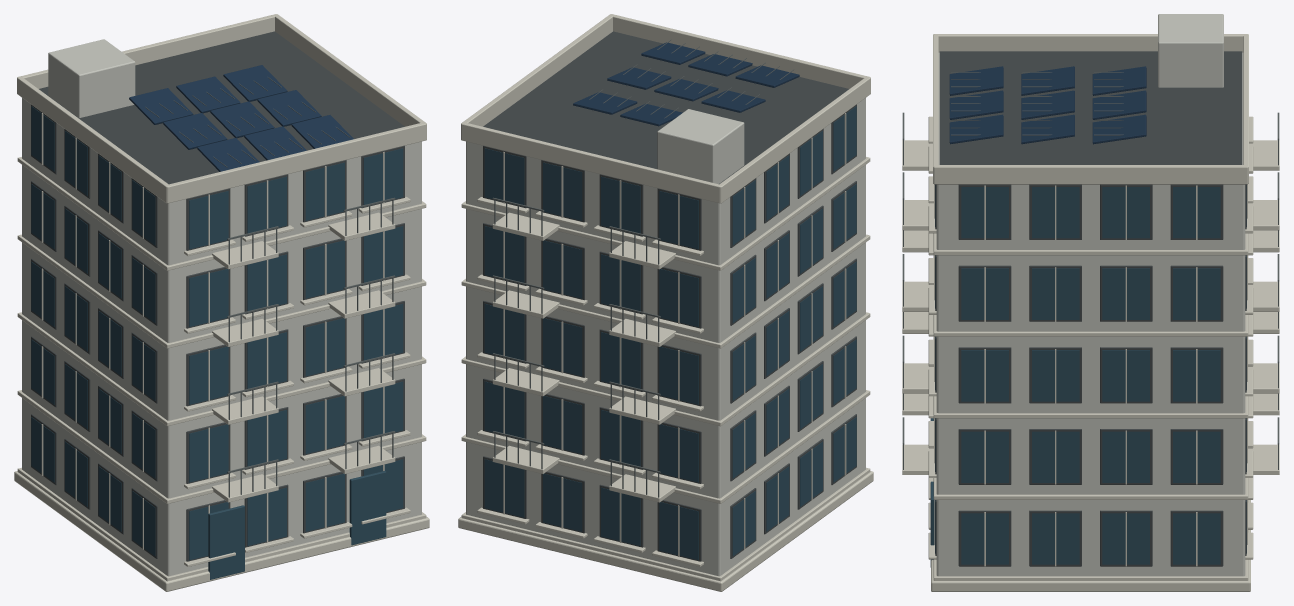
The model's file is residential_balconies.glb.
The picture shows the model from 3 angles, left to right: view 1: azimuth 30°, elevation 25°; view 2: azimuth 150°, elevation 25°; view 3: azimuth 270°, elevation 25°; orthographic projection. The views are drawn at different scales.
Visible parts, largest first — view 1: WindowGlassGeometry, BuildingWallGeometry, ArchitecturalTrimGeometry, RoofAndFrameGeometry, SolarCellsGeometry, RailMetalGeometry; view 2: BuildingWallGeometry, WindowGlassGeometry, ArchitecturalTrimGeometry, RoofAndFrameGeometry, SolarCellsGeometry, RailMetalGeometry; view 3: BuildingWallGeometry, WindowGlassGeometry, ArchitecturalTrimGeometry, RoofAndFrameGeometry, SolarCellsGeometry, RailMetalGeometry.
Boxes of the visible parts, <box> form: WindowGlassGeometry: <box>31,106,403,579</box>; BuildingWallGeometry: <box>22,39,421,576</box>; ArchitecturalTrimGeometry: <box>14,14,429,591</box>; RoofAndFrameGeometry: <box>31,31,404,561</box>; SolarCellsGeometry: <box>129,65,353,171</box>; RailMetalGeometry: <box>145,77,395,497</box>; BuildingWallGeometry: <box>466,98,865,576</box>; WindowGlassGeometry: <box>484,106,856,560</box>; ArchitecturalTrimGeometry: <box>458,14,873,591</box>; RoofAndFrameGeometry: <box>483,31,856,561</box>; SolarCellsGeometry: <box>573,42,799,126</box>; RailMetalGeometry: <box>492,39,794,497</box>; BuildingWallGeometry: <box>936,14,1245,576</box>; WindowGlassGeometry: <box>930,185,1246,567</box>; ArchitecturalTrimGeometry: <box>902,34,1279,591</box>; RoofAndFrameGeometry: <box>935,51,1246,566</box>; SolarCellsGeometry: <box>949,66,1146,144</box>; RailMetalGeometry: <box>902,72,1279,469</box>.
Bounding box in the file's own units: 11.2 × 17.55 × 13.2.
